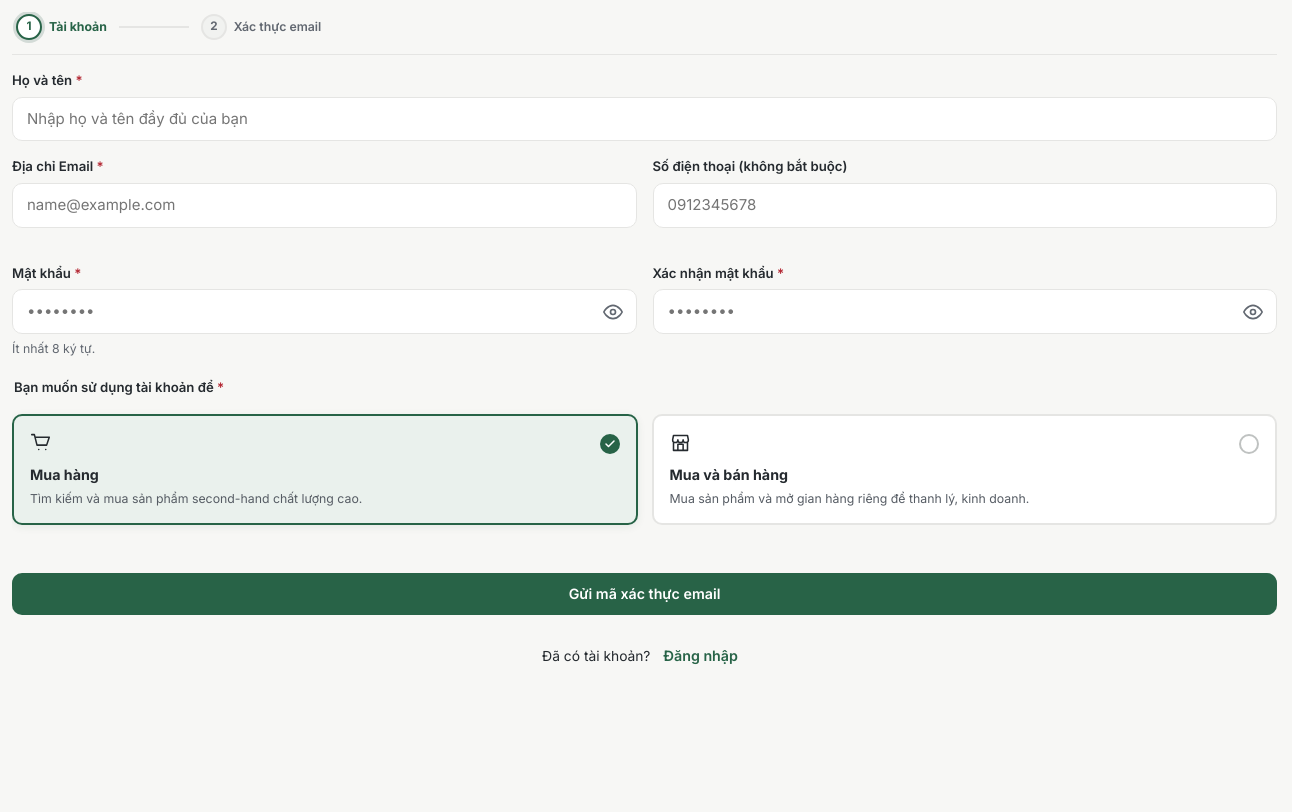
Test case: email registration › shows validation error when passwords do not match and prevents transition
Type "Test User" into the field labelled "Họ và tên *".
click(644, 119); type("Test User")  # box [12, 97, 1277, 141]
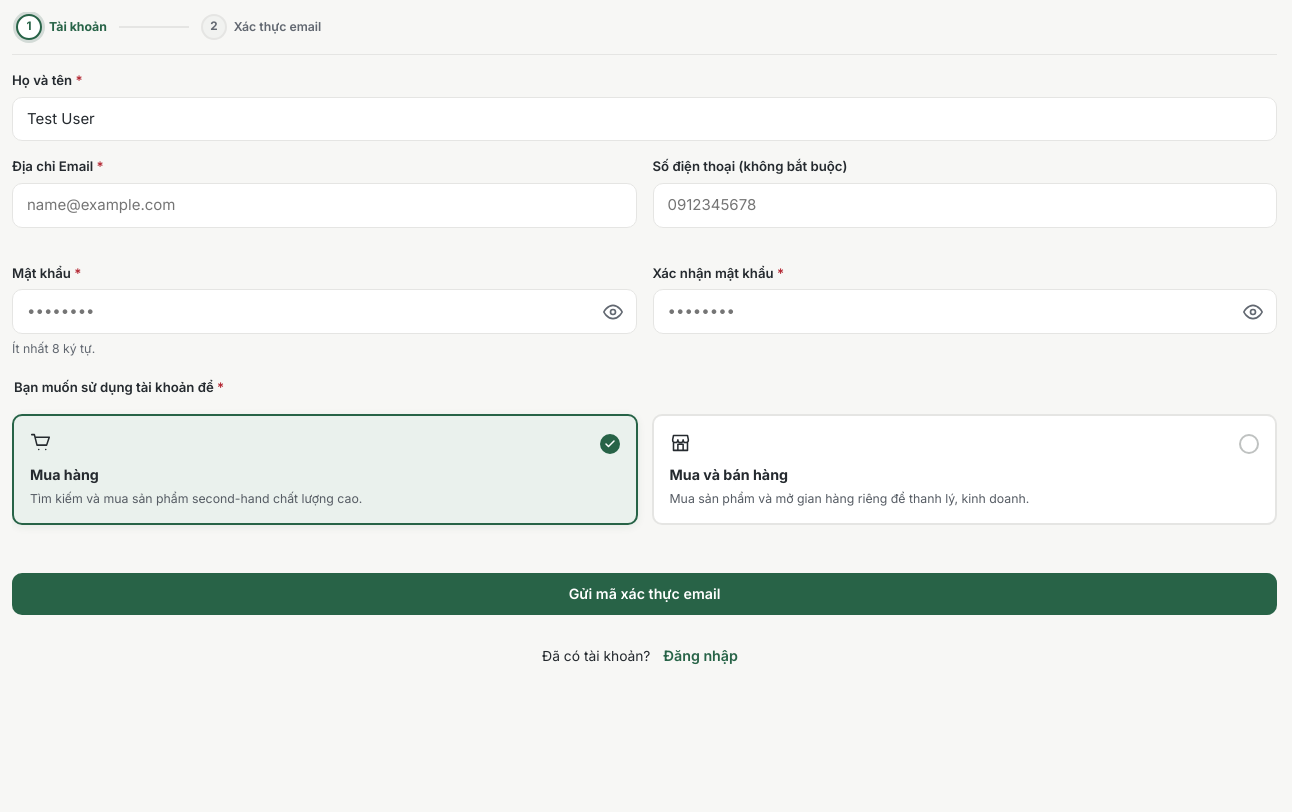
Type "test@example.com" into the field labelled "Địa chỉ Email *".
click(324, 205); type("test@example.com")  # box [12, 183, 636, 228]
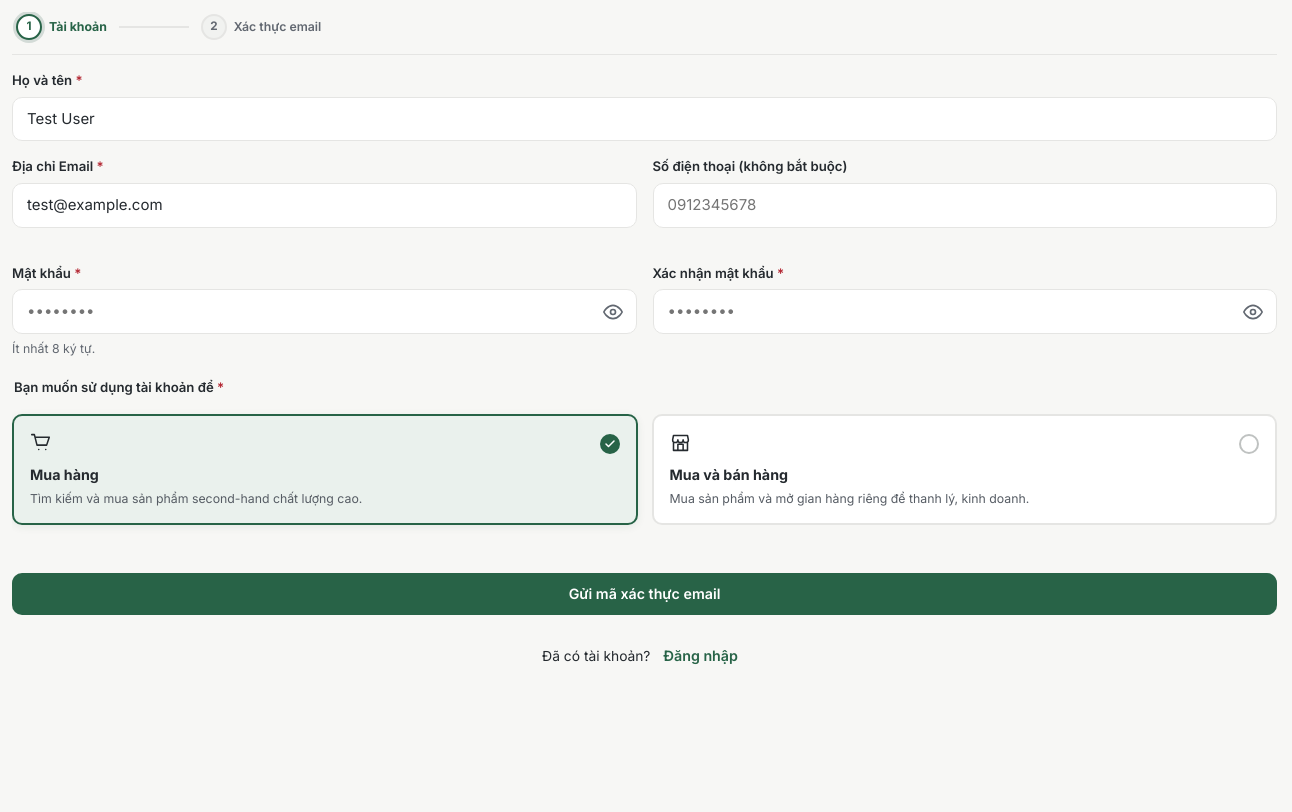
Type "Password123@" into the password field labelled "Mật khẩu *".
click(324, 312); type("Password123@")  # box [12, 289, 636, 334]
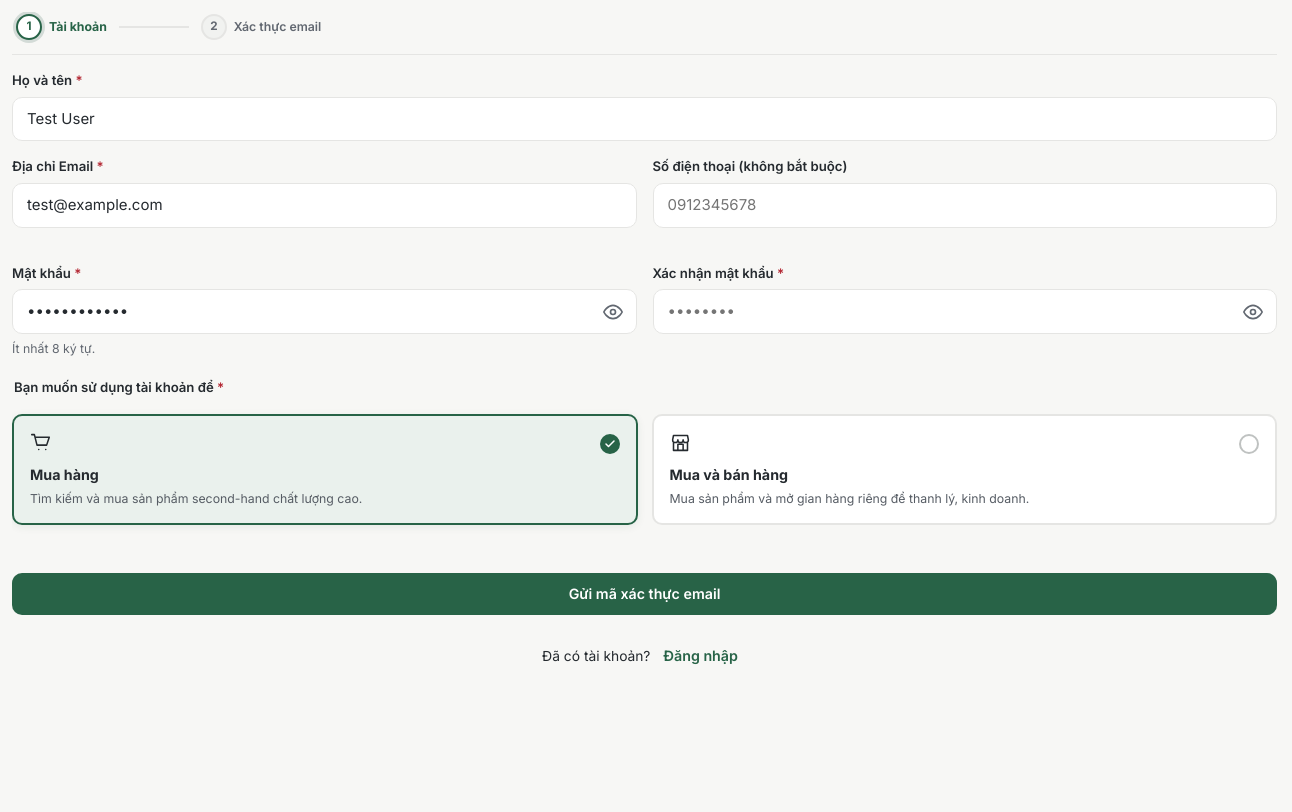
Type "Mismatch123@" into the password field labelled "Xác nhận mật khẩu *".
click(965, 312); type("Mismatch123@")  # box [652, 289, 1277, 334]
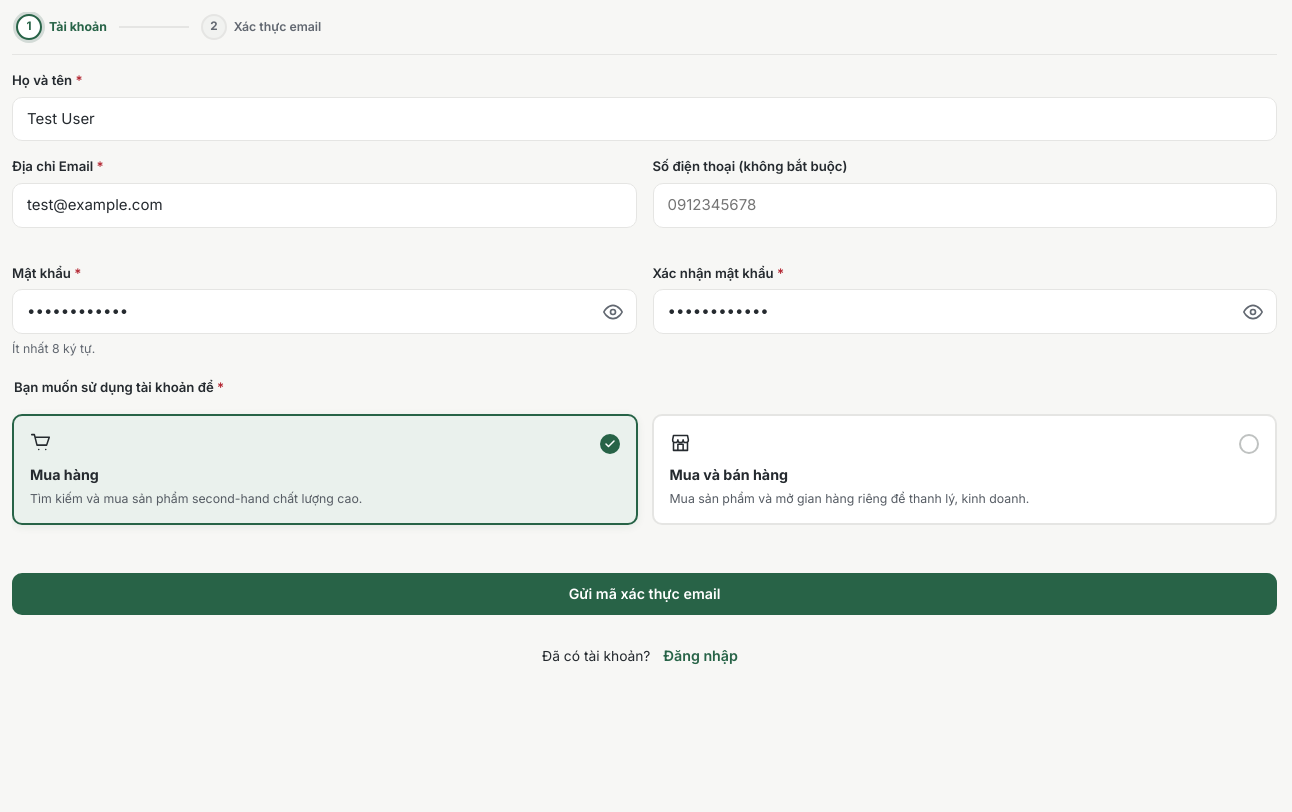
Click the radio button labelled "Mua và bán hàng".
click(729, 475)  # box [670, 466, 788, 483]
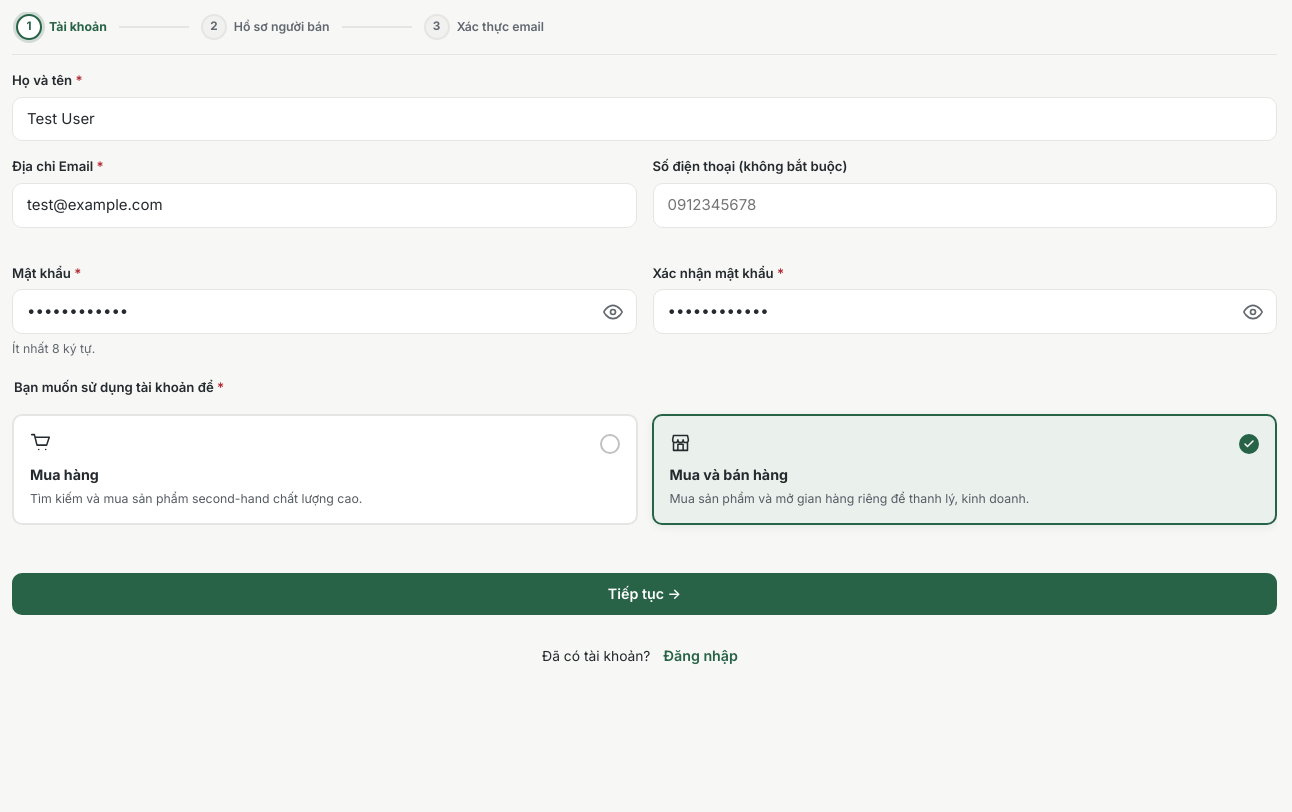
Click the button "Tiếp tục →".
click(644, 594)  # box [12, 573, 1277, 615]
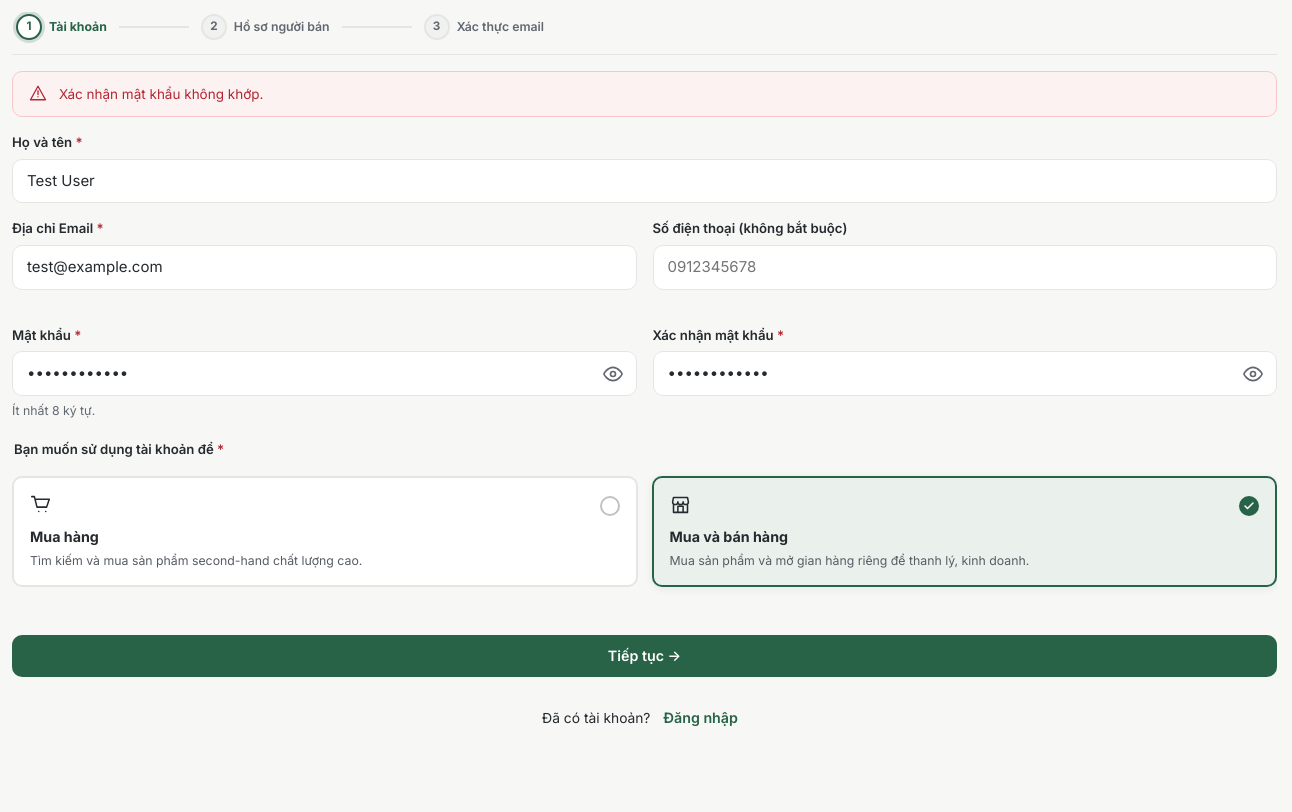
Expected: the text "Xác nhận mật khẩu không khớp." is shown, [59, 86, 263, 102]
